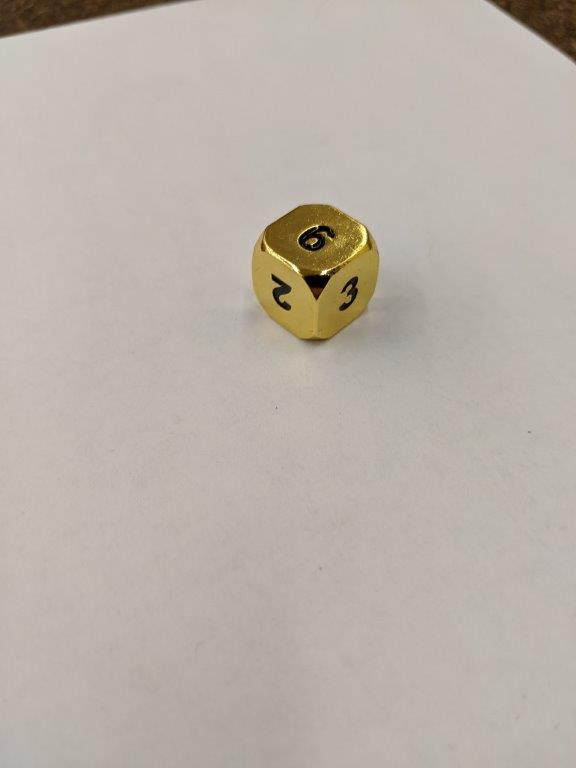d6-6: (249, 202, 379, 343)
